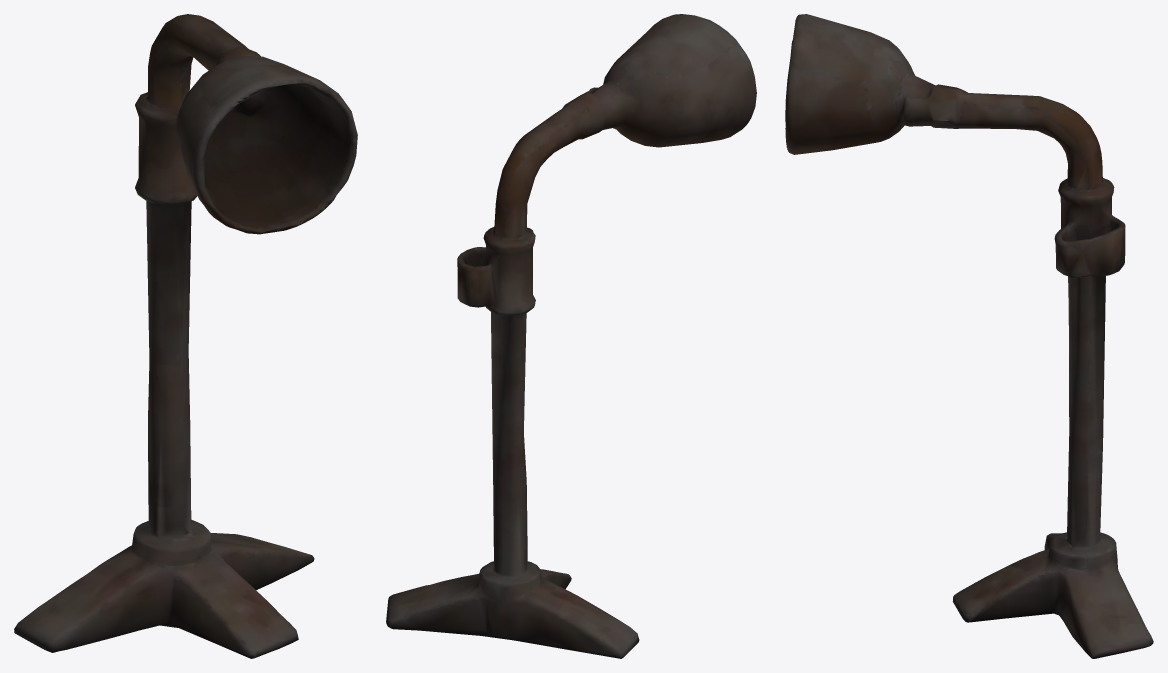
File: worn-iron-wall-torch-v002.glb
3 views of the same model, side by side, from view 1: azimuth 30°, elevation 25°; view 2: azimuth 150°, elevation 25°; view 3: azimuth 270°, elevation 25° (orthographic). The views are drawn at different scales.
Parts seen in each view (by area): view 1: worn-iron-wall-torch; view 2: worn-iron-wall-torch; view 3: worn-iron-wall-torch.
Boxes of the visible parts, x1=… form: worn-iron-wall-torch: x1=14, y1=14, x2=357, y2=658; worn-iron-wall-torch: x1=386, y1=14, x2=756, y2=658; worn-iron-wall-torch: x1=785, y1=14, x2=1153, y2=658.
Bounding box in the file's own units: 0.3373 × 0.7194 × 0.4346.
Materials: 1 (1 with a texture image).
